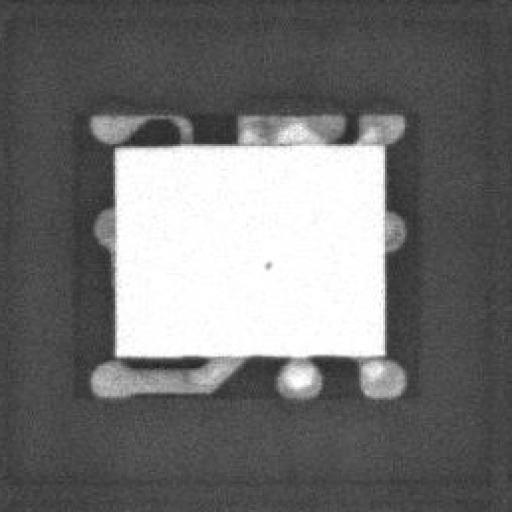DIE_INK: (248, 268, 258, 280)
